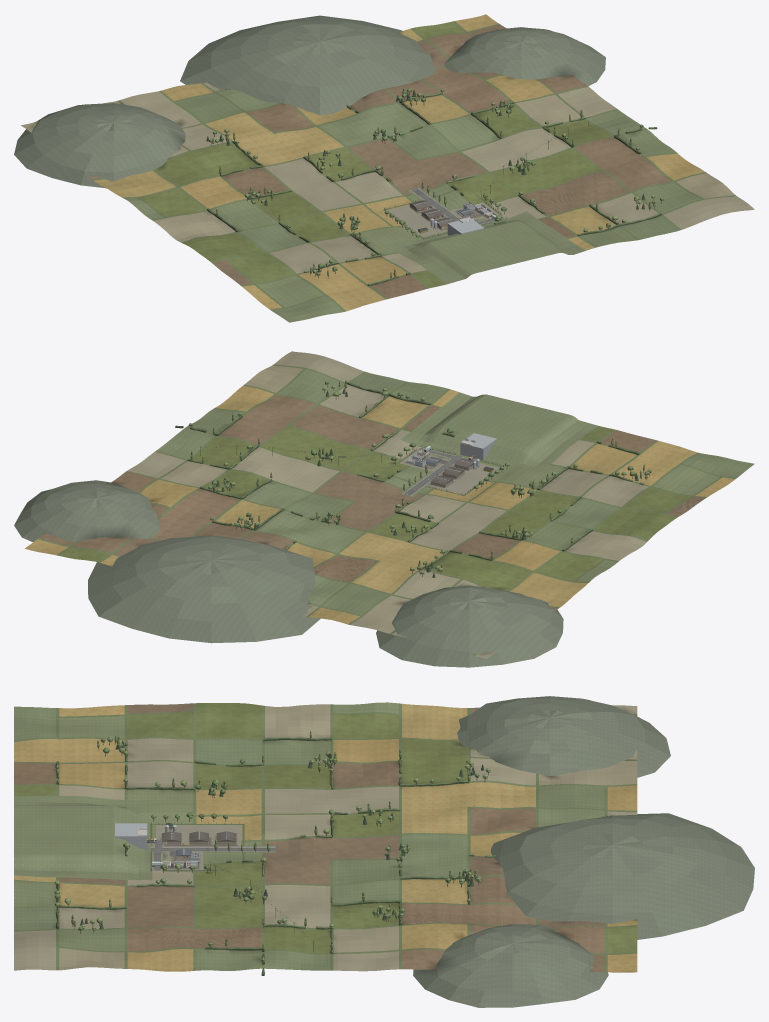
Rendered from terrace_beef.glb.
3 renders of one model, top to bottom at view 1: azimuth 30°, elevation 25°; view 2: azimuth 150°, elevation 25°; view 3: azimuth 270°, elevation 25°, orthographic. The views are drawn at different scales.
Visible parts, largest first — view 1: TERRAIN_BEEF, HILLS_BEEF, LAND_BEEF_TREES, LAND_BEEF_HEDGEROWS; view 2: TERRAIN_BEEF, HILLS_BEEF, LAND_BEEF_TREES, LAND_BEEF_HEDGEROWS, ROAD_BEEF, TERRACE_PLINTH; view 3: TERRAIN_BEEF, HILLS_BEEF, LAND_BEEF_TREES, LAND_BEEF_HEDGEROWS, ROAD_BEEF, TERRACE_PLINTH.
Part boxes in pixels (x1=…): TERRAIN_BEEF: x1=21, y1=14, x2=754, y2=322; HILLS_BEEF: x1=14, y1=15, x2=605, y2=188; LAND_BEEF_TREES: x1=206, y1=87, x2=664, y2=278; LAND_BEEF_HEDGEROWS: x1=207, y1=92, x2=661, y2=285; TERRAIN_BEEF: x1=25, y1=351, x2=754, y2=658; HILLS_BEEF: x1=14, y1=480, x2=563, y2=667; LAND_BEEF_TREES: x1=188, y1=380, x2=651, y2=577; LAND_BEEF_HEDGEROWS: x1=175, y1=382, x2=643, y2=569; ROAD_BEEF: x1=402, y1=447, x2=476, y2=496; TERRACE_PLINTH: x1=460, y1=433, x2=496, y2=459; TERRAIN_BEEF: x1=14, y1=702, x2=637, y2=972; HILLS_BEEF: x1=413, y1=696, x2=754, y2=1007; LAND_BEEF_TREES: x1=54, y1=730, x2=490, y2=964; LAND_BEEF_HEDGEROWS: x1=55, y1=737, x2=495, y2=975; ROAD_BEEF: x1=147, y1=839, x2=275, y2=870; TERRACE_PLINTH: x1=115, y1=823, x2=147, y2=849.
Size of the model in its own units: 589 by 30 by 594.
Materials: 55 (39 with a texture image).
